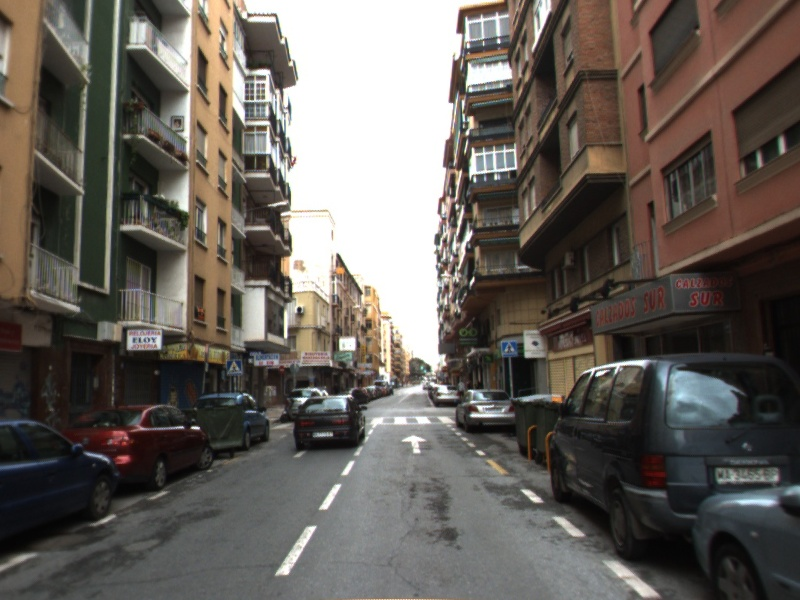STRAIGHT: (400, 433, 429, 455)
